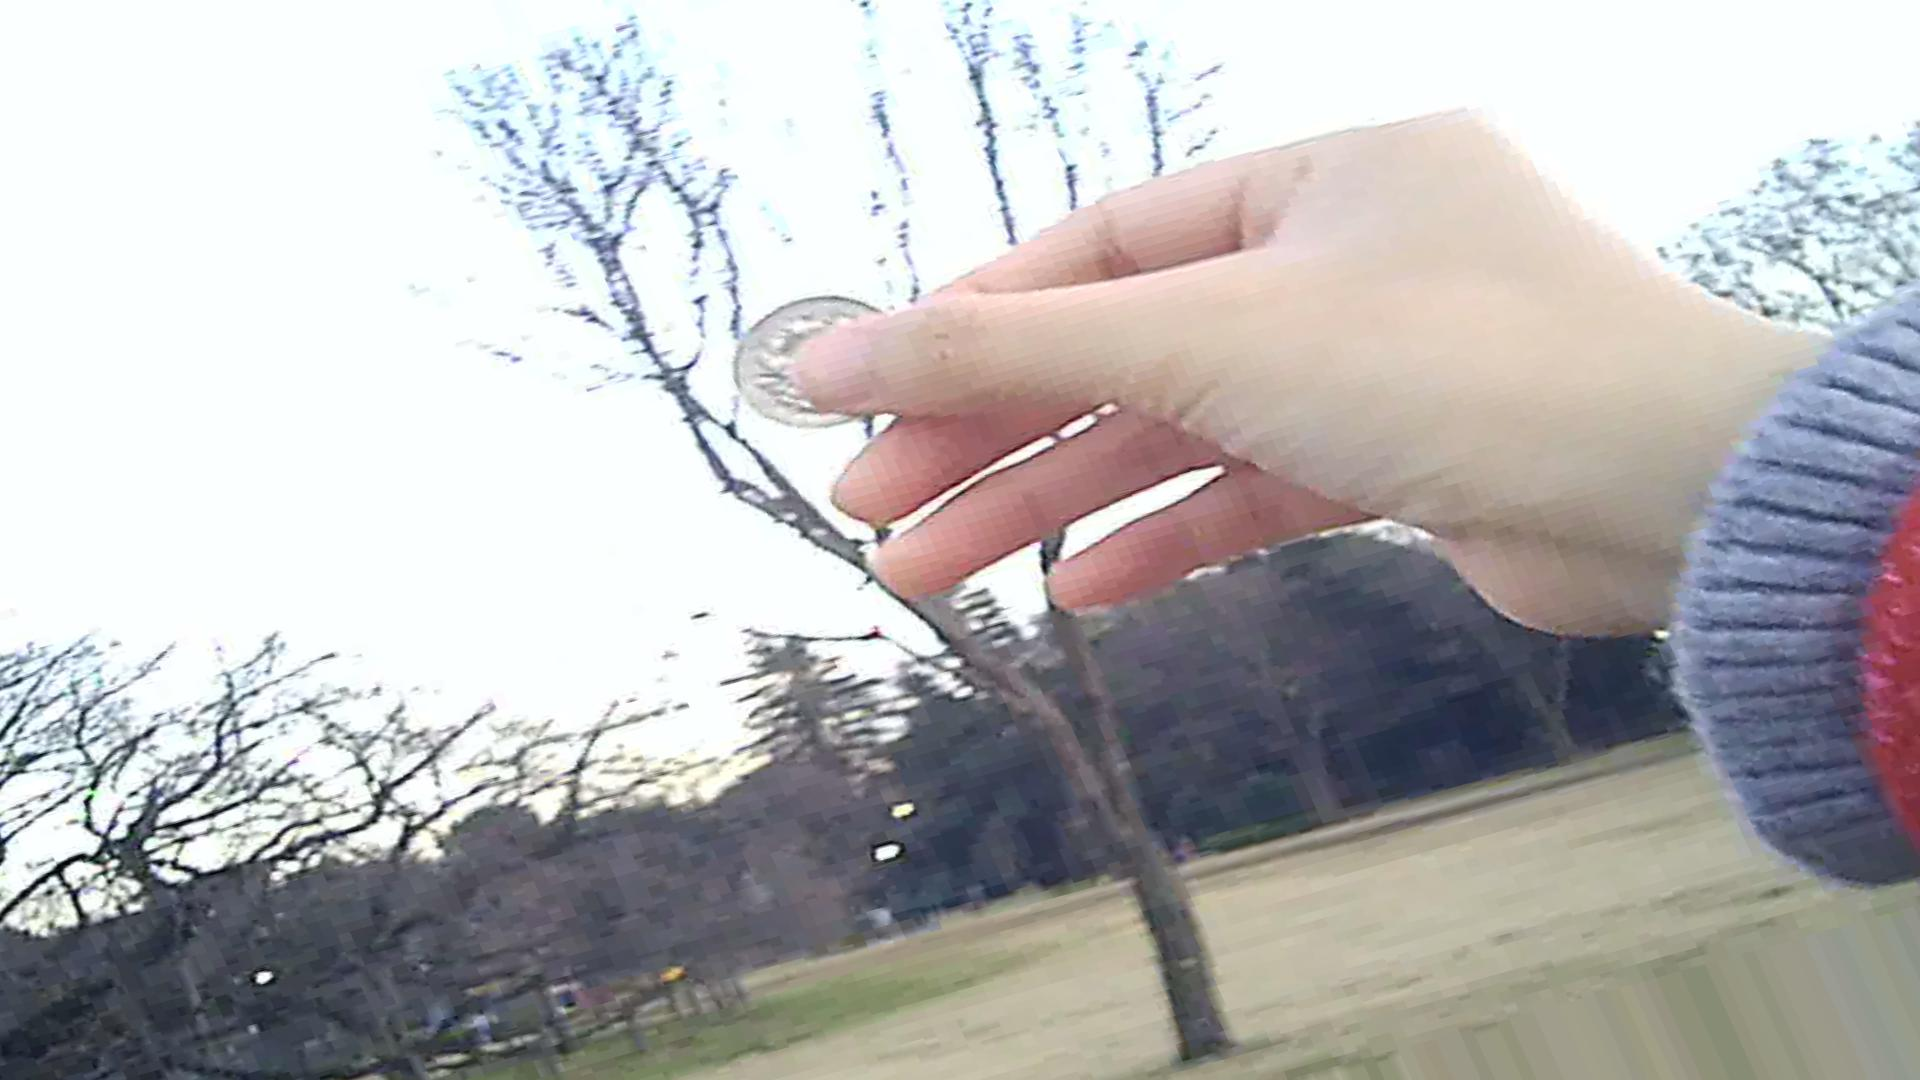100 Yen: (724, 295, 915, 439)
